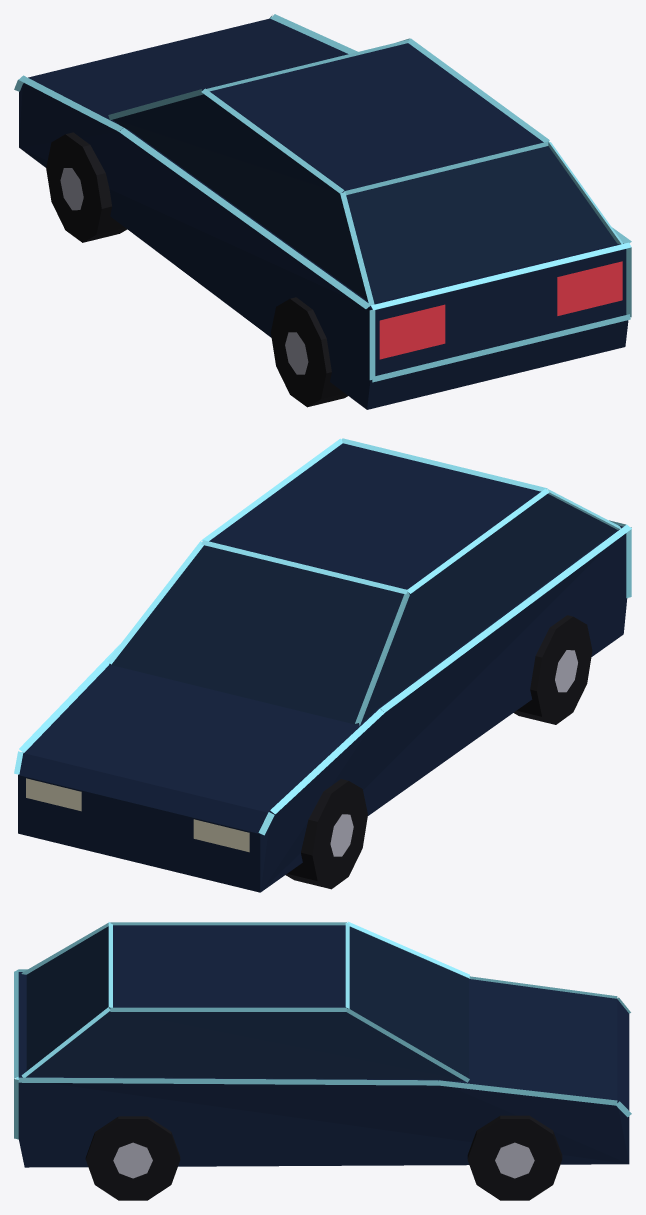
Rendered from car_traffic_a.glb.
3 renders of one model, top to bottom at view 1: azimuth 30°, elevation 25°; view 2: azimuth 150°, elevation 25°; view 3: azimuth 270°, elevation 25°, orthographic. The views are drawn at different scales.
Visible parts, largest first — view 1: root; view 2: root; view 3: root.
Boxes of the visible parts, x1,y1,x2,y2 form: root: [14, 14, 631, 409]; root: [14, 438, 631, 892]; root: [14, 921, 631, 1200].
Size of the model in its own units: 1.74 by 1.31 by 4.05.
